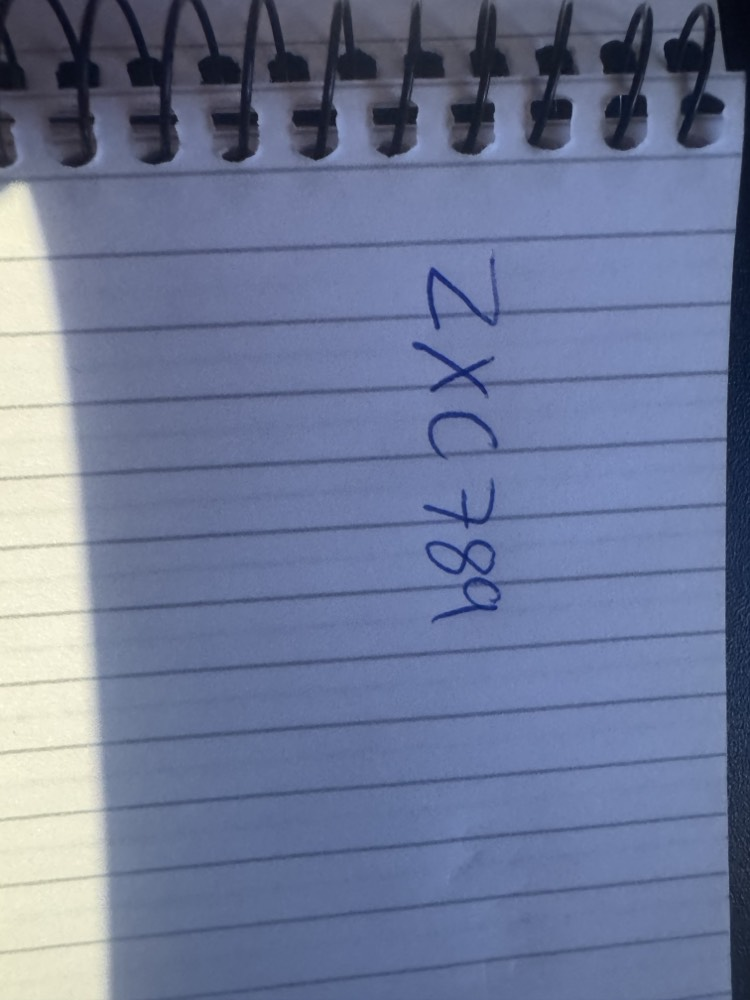OCR_AREA: (408, 240, 507, 629)
